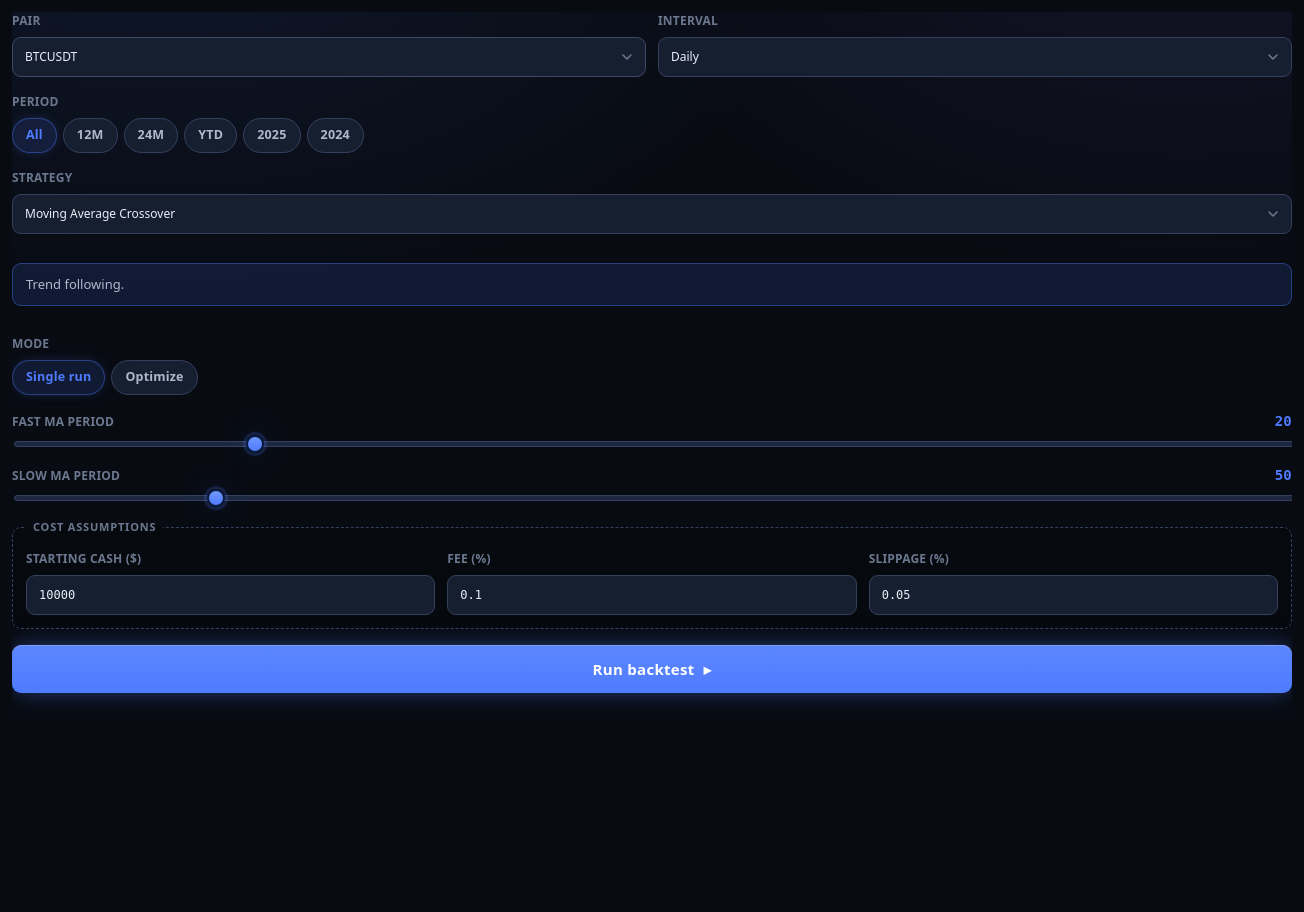
Test: StrategyForm › swaps the param controls when the strategy changes
Select "Grid Trading" in the dropdown showing "Moving Average Crossover". click: (652, 214)
box: [12,194,1292,234]
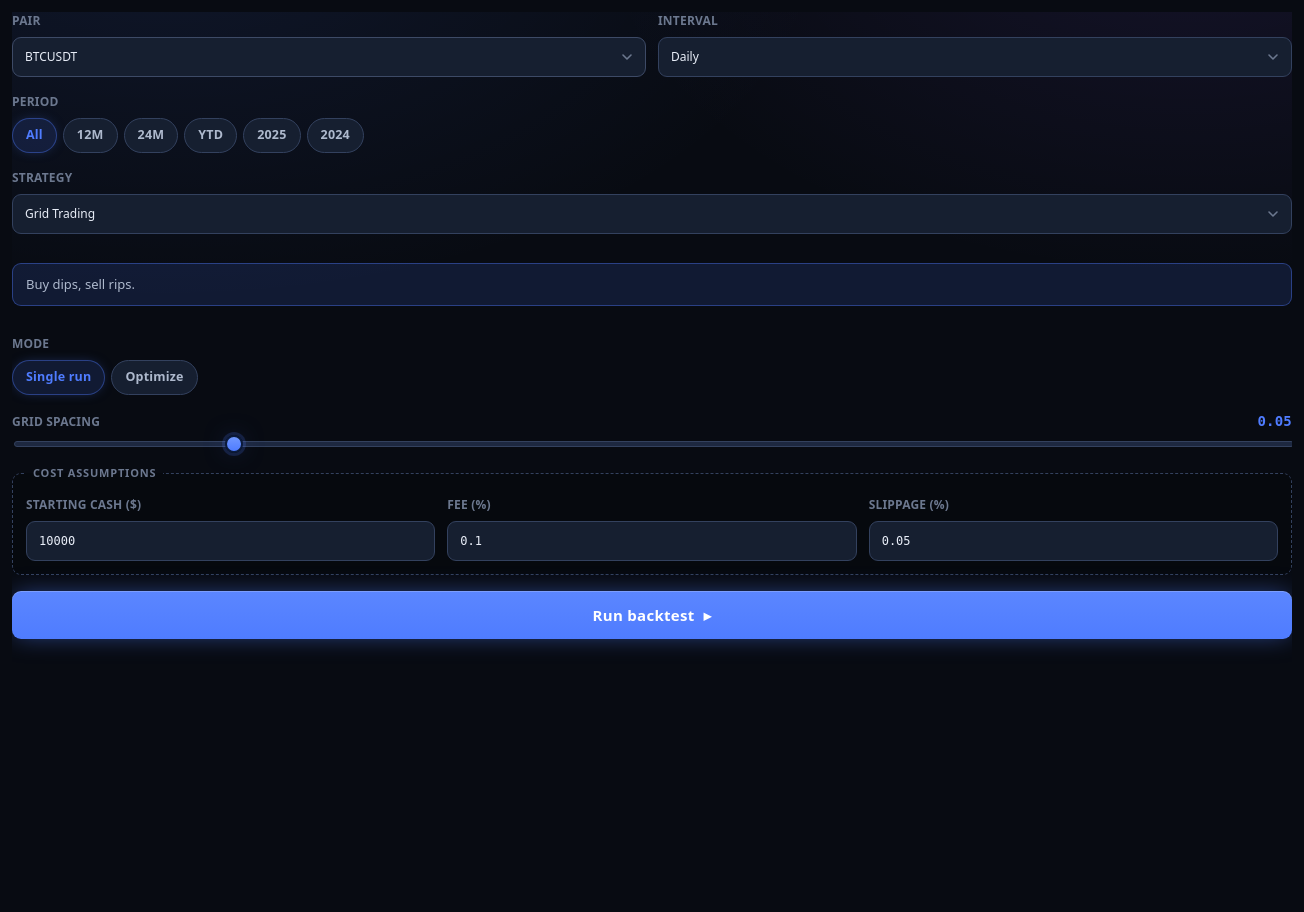
Result: the text "Grid spacing" is shown at [12,413,100,430]
Result: the text "Fast MA period" is gone
